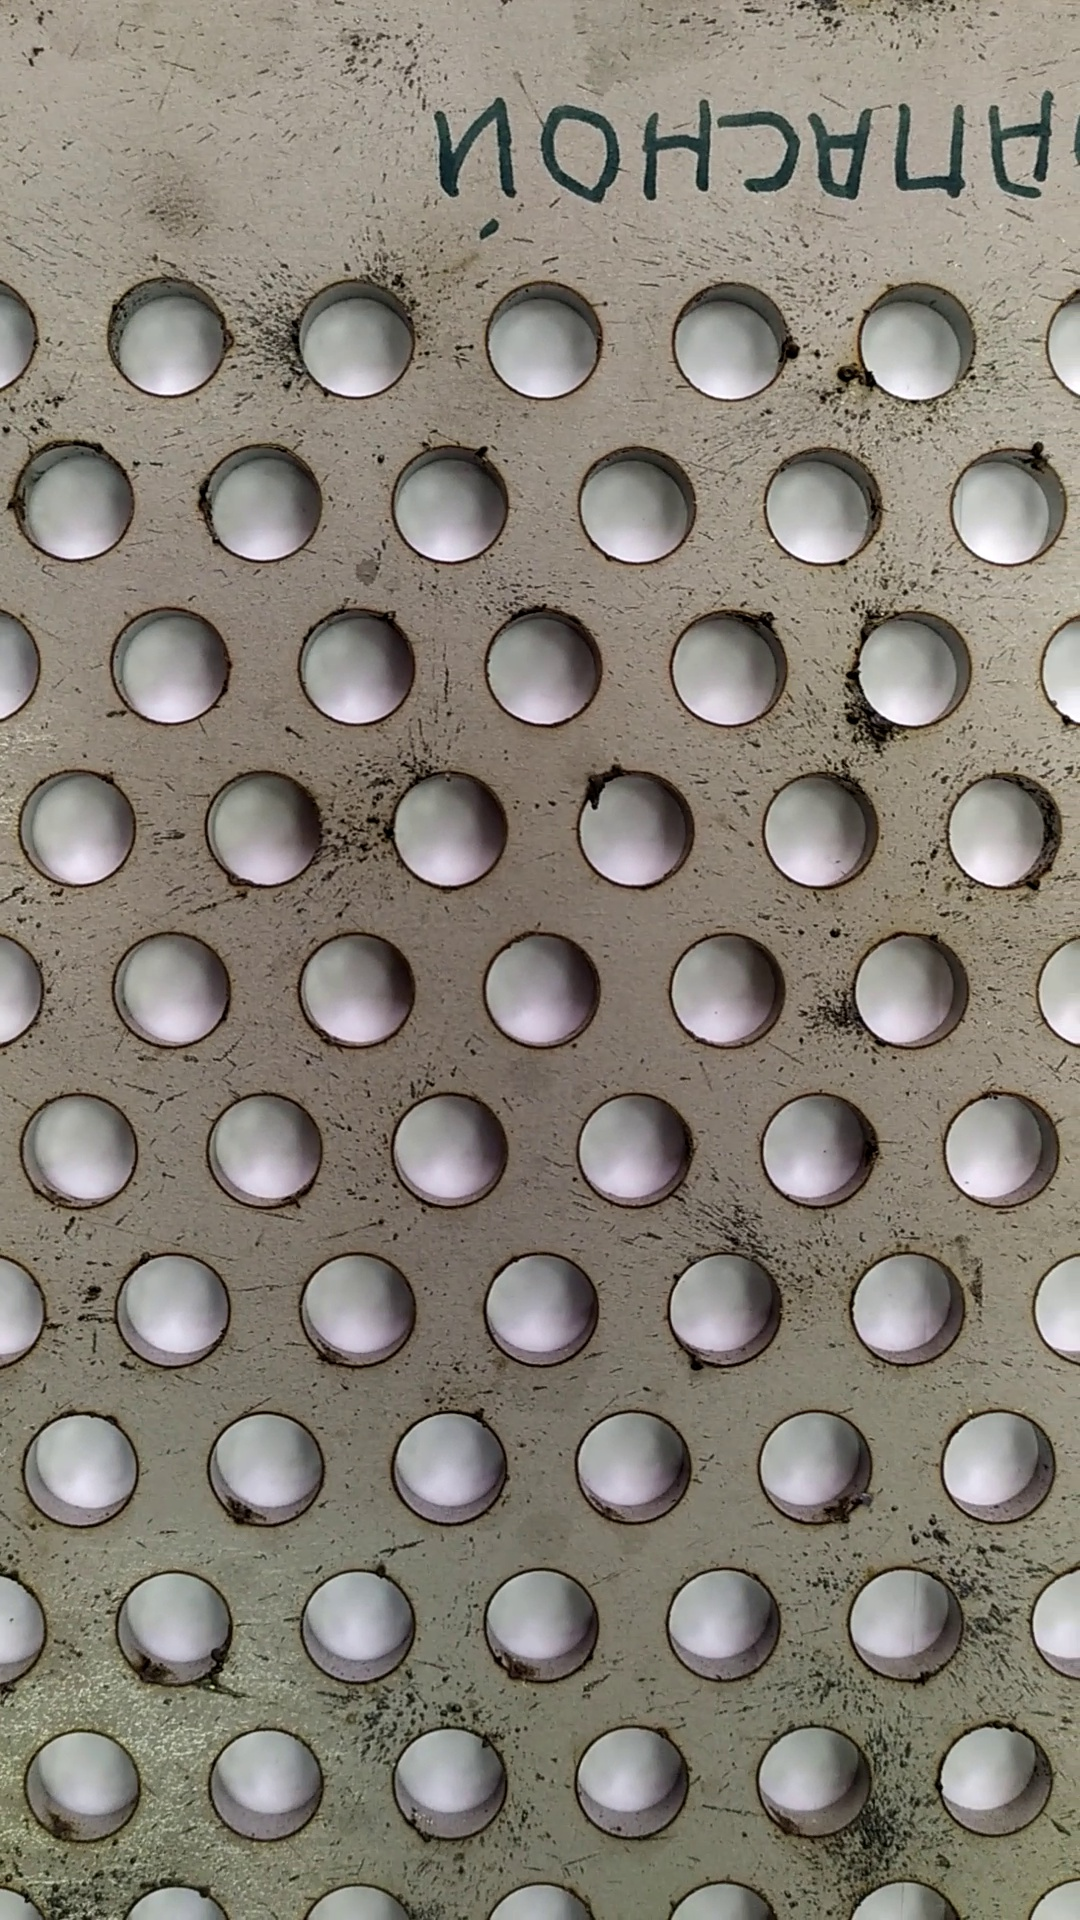Hole: (83, 585, 261, 740), (545, 422, 728, 570), (367, 417, 526, 570), (280, 268, 440, 407), (556, 756, 708, 903), (191, 752, 345, 897), (465, 595, 624, 736), (653, 593, 804, 740), (653, 1236, 804, 1381), (736, 1400, 889, 1544), (745, 434, 895, 578), (825, 1556, 982, 1693), (459, 1563, 624, 1691), (12, 1081, 156, 1226), (833, 1236, 978, 1379), (375, 762, 522, 903), (741, 1079, 895, 1213), (833, 593, 975, 738), (651, 919, 796, 1060), (926, 1396, 1069, 1538), (281, 922, 430, 1058), (381, 1717, 531, 1850), (3, 430, 153, 562), (471, 1232, 608, 1375), (198, 1077, 332, 1222), (92, 266, 232, 405), (198, 1400, 343, 1534), (942, 430, 1071, 579), (378, 1393, 518, 1530), (471, 268, 612, 404), (841, 924, 981, 1060), (556, 1396, 700, 1528), (189, 1716, 336, 1844), (104, 1560, 245, 1693), (936, 1073, 1067, 1215), (8, 766, 153, 893), (289, 593, 426, 727), (12, 1403, 153, 1532), (563, 1717, 704, 1846), (377, 1083, 520, 1211), (653, 1563, 786, 1698), (102, 919, 240, 1050), (756, 760, 884, 901), (287, 1244, 430, 1370), (847, 273, 981, 405), (932, 1712, 1063, 1847), (15, 1716, 149, 1846), (475, 922, 604, 1058), (943, 766, 1067, 905), (574, 1083, 705, 1211), (289, 1553, 415, 1687), (102, 1246, 236, 1371), (194, 440, 328, 564), (752, 1705, 876, 1838), (669, 277, 794, 405)
